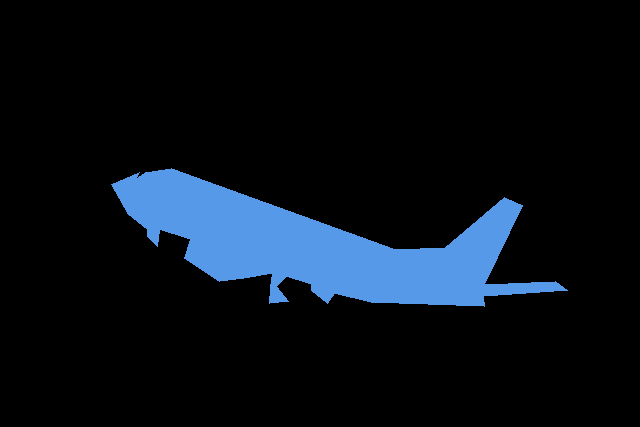Airplane: (111, 168, 567, 307)
